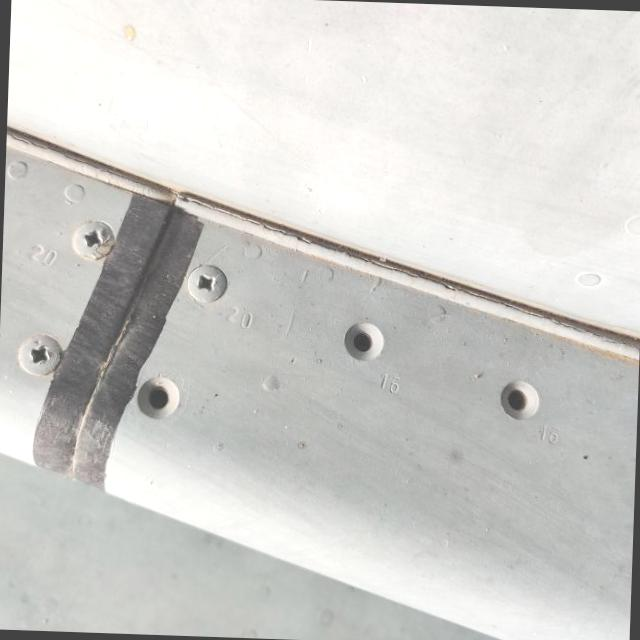Missing Fastener: (130, 369, 190, 428), (336, 317, 390, 372), (494, 374, 546, 424)
